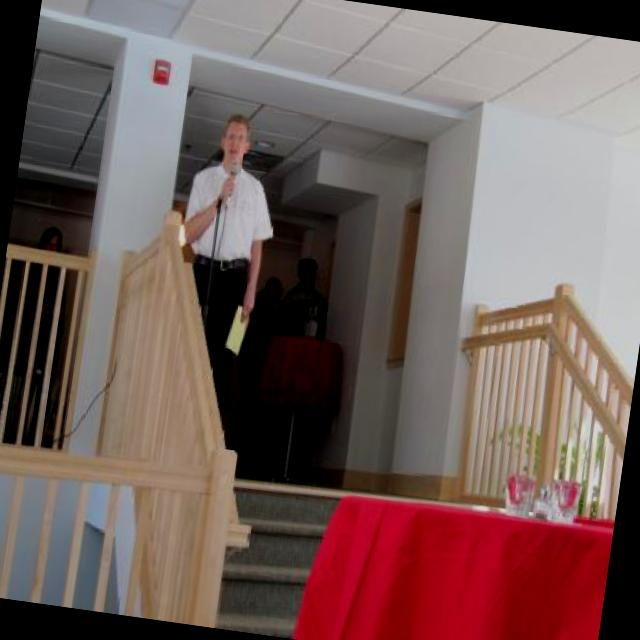Person: (157, 110, 284, 421), (254, 258, 341, 492), (0, 222, 77, 445), (220, 270, 290, 476)
